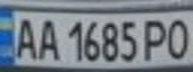1: (63, 17, 84, 61)
5: (118, 17, 142, 62)
6: (81, 17, 103, 62)
8: (100, 18, 121, 63)
A: (9, 14, 39, 61), (33, 15, 60, 61)
O: (163, 15, 193, 61)
P: (139, 16, 172, 62)
